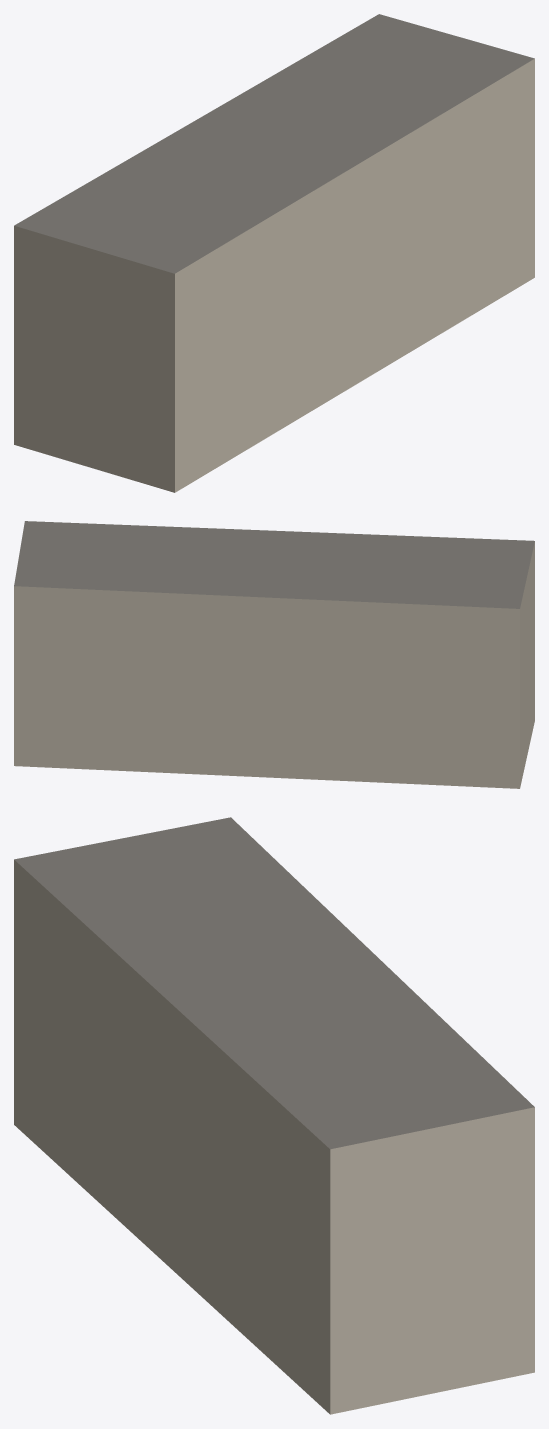
3 renders of one model, top to bottom at view 1: azimuth 30°, elevation 25°; view 2: azimuth 150°, elevation 25°; view 3: azimuth 270°, elevation 25°, orthographic. The views are drawn at different scales.
Visible parts, largest first — view 1: HP-w505633427; view 2: HP-w505633427; view 3: HP-w505633427.
Part boxes in pixels (x1,y1,x2,y2): HP-w505633427: (14,14,534,492); HP-w505633427: (14,521,534,788); HP-w505633427: (14,817,534,1414).
Bounding box in the file's own units: 32.21 × 12 × 21.35.
